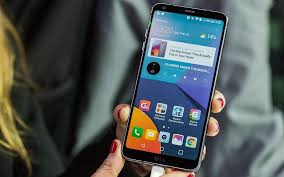lg: (119, 1, 228, 171)
